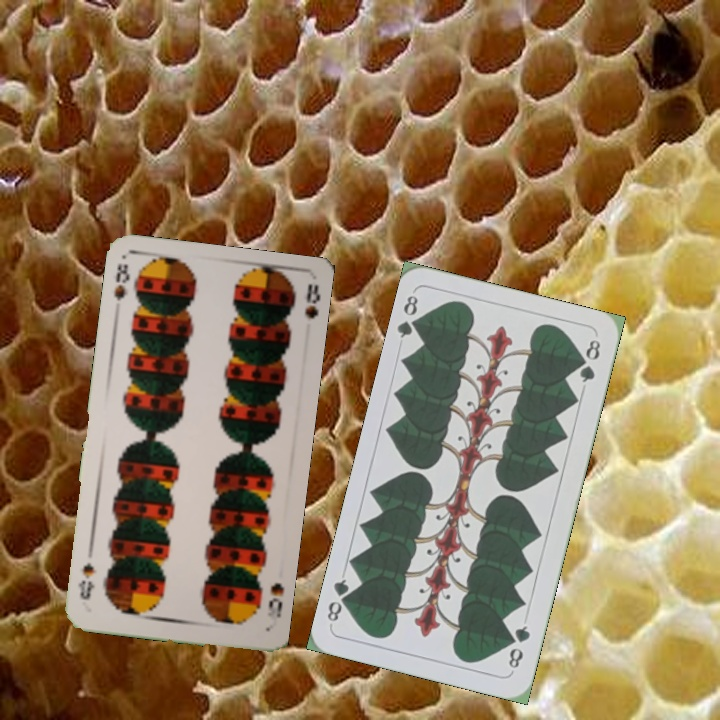G8: (394, 291, 426, 341), (504, 621, 533, 671)
S8: (263, 578, 287, 628), (110, 259, 133, 303)
